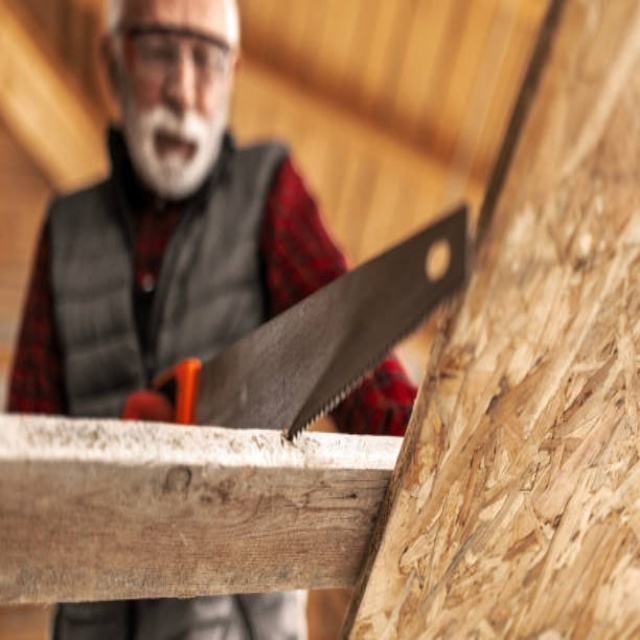Gafas: (119, 22, 234, 84)
Sin_mascara: (147, 116, 203, 187)
